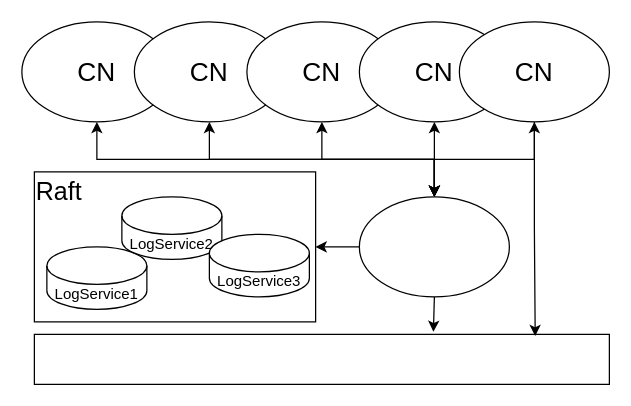
Image size: 631x406. Some labels were removed from this diagram. The centre of each missing label's shape, as x and y in pixels:
Object Storage (S3): pixel 321 358
TN: pixel 433 246
